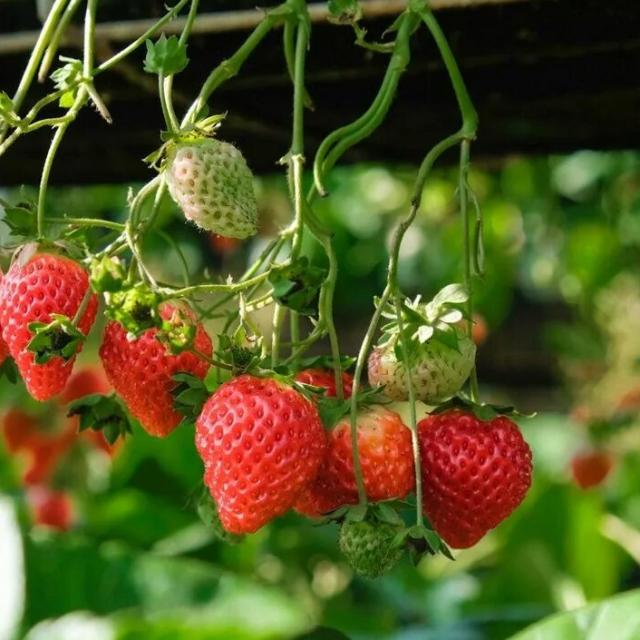Ripe Strawberry: (412, 388, 533, 550), (198, 373, 312, 536), (99, 304, 212, 438), (2, 253, 101, 402), (323, 394, 422, 505), (1, 403, 76, 484), (66, 364, 124, 463), (294, 359, 370, 420), (29, 488, 72, 532), (571, 451, 614, 488)
